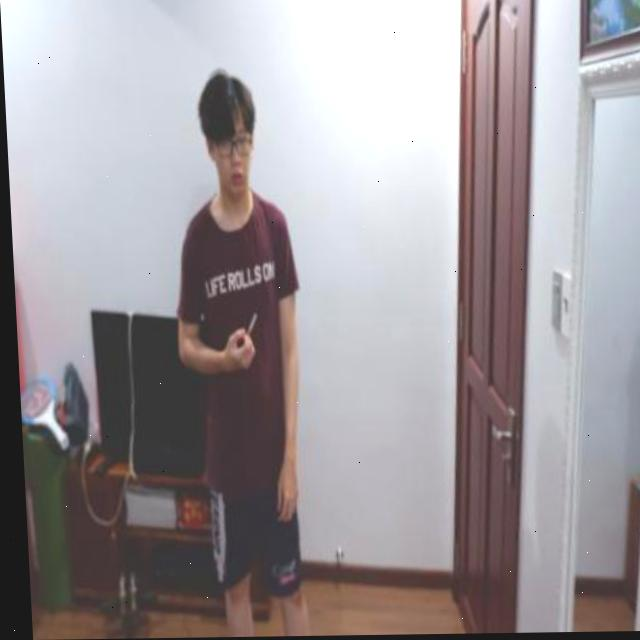cigarette: (242, 312, 255, 338)
